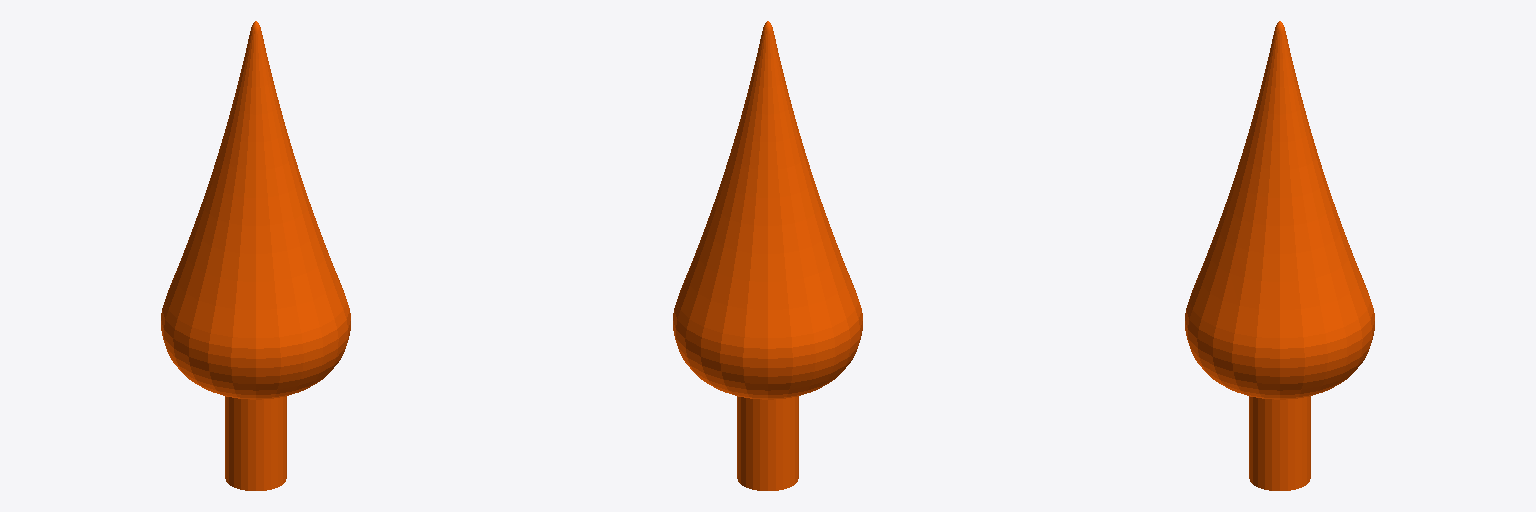
The robot description file, URDF, robot "Plant_58f71ff34fc07dd6fd9c62608ca7926c":
<?xml version="1.0" ?>
<robot name="Plant_58f71ff34fc07dd6fd9c62608ca7926c">
   <material name="obj_color">
      <color rgba="1.0 0.423529411765 0.0392156862745 1.0"/>
   </material>
   <link name="top">
      <inertial>
         <origin rpy="2.242435484842266e-05 7.603360763581701e-05 7.603366676000635e-05" xyz="-0.0001445545534494266 -1.98256015887103e-05 -0.005719147649520718"/>
         <mass value="0.1088235685705314"/>
         <inertia ixx="7.603366611077984e-05" ixy="-6.161422388923808e-12" ixz="-1.870046709363756e-11" iyy="7.603360828503689e-05" iyz="-1.834371733650846e-12" izz="2.242435484842927e-05"/>
      </inertial>
      <visual>
         <origin rpy="0 0 0" xyz="0 0 0"/>
         <geometry>
            <mesh filename="top_watertight_tiny.stl" scale="1 1 1"/>
         </geometry>
         <material name="obj_color"/>
      </visual>
      <collision>
         <origin rpy="0 0 0" xyz="0 0 0"/>
         <geometry>
            <mesh filename="top_watertight_tiny.obj" scale="1 1 1"/>
         </geometry>
      </collision>
   </link>
   <link name="bottom">
      <inertial>
         <origin rpy="1.633333333199431e-08 1.633333333199431e-08 1.633333333362855e-08" xyz="0.3464080000000008 0.3464080000000008 0.3464080000000008"/>
         <mass value="0.0009800000000000017"/>
         <inertia ixx="1.633333333253906e-08" ixy="5.447480642029219e-19" ixz="5.447480642029219e-19" iyy="1.633333333253906e-08" iyz="5.447480642029219e-19" izz="1.633333333253906e-08"/>
      </inertial>
      <visual>
         <origin rpy="0 0 0" xyz="0 0 0"/>
         <geometry>
            <mesh filename="bottom_watertight_tiny.stl" scale="1 1 1"/>
         </geometry>
         <material name="obj_color"/>
      </visual>
   </link>
   <link name="world"/>
   <joint name="world_to_base" type="fixed">
      <origin xyz="0 0 0"/>
      <axis xyz="0 0 0"/>
      <parent link="world"/>
      <child link="bottom"/>
   </joint>
   <joint name="rotation" type="revolute">
      <origin xyz="0 0 0"/>
      <axis xyz="0 0 -1"/>
      <parent link="bottom"/>
      <child link="top"/>
      <dynamics damping="1.0" friction="1.0"/>
      <limit effort="0.1" velocity="0.1" lower="0" upper="0.001"/>
   </joint>
</robot>

--- Facts derived from the render (not from the file) ---
3 views of the same robot in one strip: view 1: azimuth 30°, elevation 25°; view 2: azimuth 150°, elevation 25°; view 3: azimuth 270°, elevation 25° (orthographic).
Model Plant_58f71ff34fc07dd6fd9c62608ca7926c with 3 links and 2 joints (1 revolute, 1 fixed), rooted at world, posed all joints at 0.
Visible links, largest first — view 1: top; view 2: top; view 3: top.
Boxes of the visible links, <box> form: top: <box>161,21,350,490</box>; top: <box>673,21,862,490</box>; top: <box>1185,21,1374,490</box>.
Bounding box of the posed robot: 0.0508 × 0.0508 × 0.1346 m (x, y, z).
1 mesh visuals loaded from 2 distinct referenced files (1 binary STL); not drawn: 1 (reference not matched to a file when rendering).
